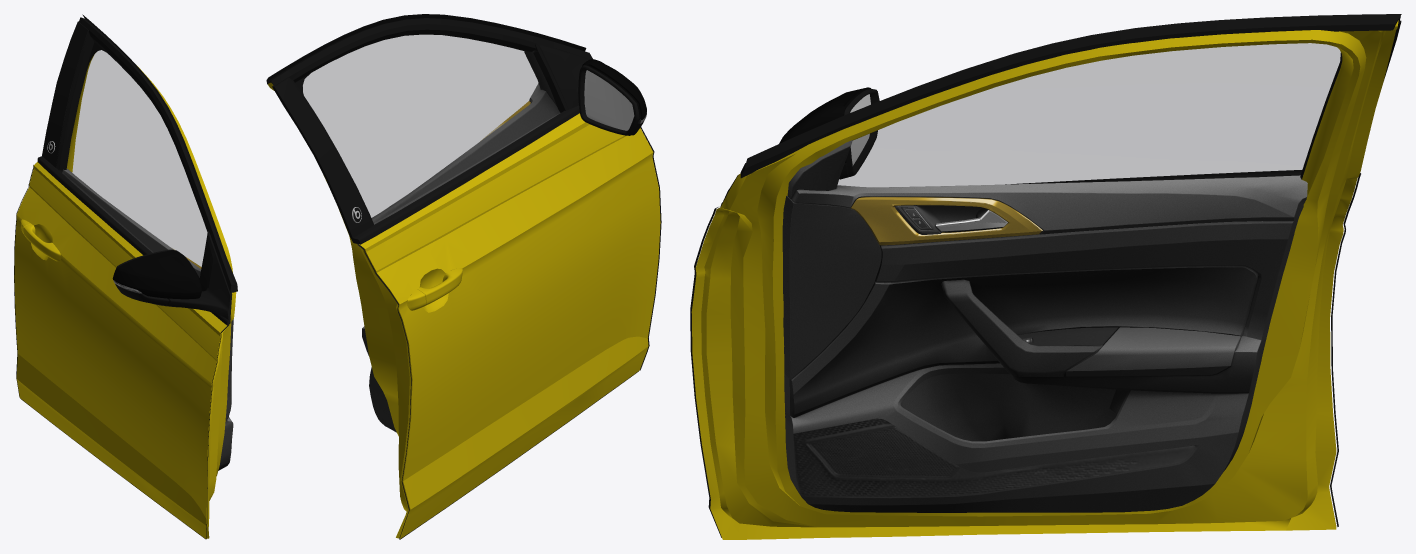
File: door_rf.glb
3 renders of one model, left to right at view 1: azimuth 30°, elevation 25°; view 2: azimuth 150°, elevation 25°; view 3: azimuth 270°, elevation 25°, orthographic. The views are drawn at different scales.
Visible parts, largest first — view 1: 04_car_body_rf_door_carpaint_C1_0, 43_rf_door_glass_Default OBJ.012_0, 44_rf_door_plastic_plastic_0, 90_car_body_rf_door_car_paint_c2_0, 48_rf_door_inner_map_c_inner_door_0, 45_rf_door_black_plastic_plastic_0, 86_rf_door_plastic_line_plastic_0; view 2: 04_car_body_rf_door_carpaint_C1_0, 43_rf_door_glass_Default OBJ.012_0, 44_rf_door_plastic_plastic_0, 48_rf_door_inner_map_c_inner_door_0, 45_rf_door_black_plastic_plastic_0, 47_rf_door_mirror_mirror_0, 86_rf_door_plastic_line_plastic_0, 90_car_body_rf_door_car_paint_c2_0; view 3: 48_rf_door_inner_map_c_inner_door_0, 04_car_body_rf_door_carpaint_C1_0, 43_rf_door_glass_Default OBJ.012_0, 44_rf_door_plastic_plastic_0, 86_rf_door_plastic_line_plastic_0, 90_car_body_rf_door_car_paint_c2_0.
Part boxes in pixels (<box>): 04_car_body_rf_door_carpaint_C1_0: <box>14,53,236,538</box>; 43_rf_door_glass_Default OBJ.012_0: <box>59,37,206,277</box>; 44_rf_door_plastic_plastic_0: <box>37,14,237,325</box>; 90_car_body_rf_door_car_paint_c2_0: <box>112,250,202,299</box>; 48_rf_door_inner_map_c_inner_door_0: <box>62,168,233,470</box>; 45_rf_door_black_plastic_plastic_0: <box>42,21,88,167</box>; 86_rf_door_plastic_line_plastic_0: <box>14,165,229,539</box>; 04_car_body_rf_door_carpaint_C1_0: <box>268,82,660,538</box>; 43_rf_door_glass_Default OBJ.012_0: <box>293,30,562,222</box>; 44_rf_door_plastic_plastic_0: <box>266,14,644,244</box>; 48_rf_door_inner_map_c_inner_door_0: <box>362,50,646,432</box>; 45_rf_door_black_plastic_plastic_0: <box>272,77,372,238</box>; 47_rf_door_mirror_mirror_0: <box>584,70,634,130</box>; 86_rf_door_plastic_line_plastic_0: <box>357,126,661,539</box>; 90_car_body_rf_door_car_paint_c2_0: <box>582,59,646,119</box>; 48_rf_door_inner_map_c_inner_door_0: <box>782,140,1307,512</box>; 04_car_body_rf_door_carpaint_C1_0: <box>691,20,1398,539</box>; 43_rf_door_glass_Default OBJ.012_0: <box>838,43,1340,186</box>; 44_rf_door_plastic_plastic_0: <box>720,14,1401,207</box>; 86_rf_door_plastic_line_plastic_0: <box>690,173,1360,537</box>; 90_car_body_rf_door_car_paint_c2_0: <box>779,87,871,163</box>.
Bounding box in the file's own units: 0.4338 × 1.1 × 1.2.
7 materials, 1 textured.
